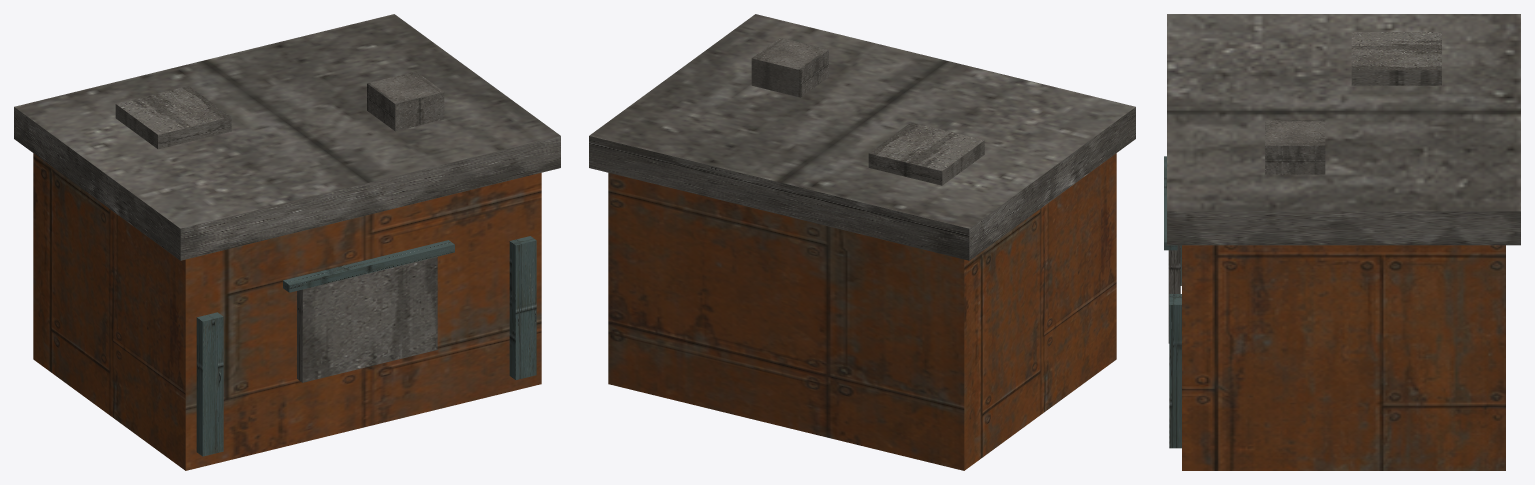
The model's file is district-building.gltf.
The picture shows the model from 3 angles, left to right: view 1: azimuth 30°, elevation 25°; view 2: azimuth 150°, elevation 25°; view 3: azimuth 270°, elevation 25°; orthographic projection. The views are drawn at different scales.
Visible parts, largest first — view 1: district-building; view 2: district-building; view 3: district-building.
Boxes of the visible parts, x1=… form: district-building: x1=14, y1=14, x2=560, y2=470; district-building: x1=589, y1=14, x2=1135, y2=470; district-building: x1=1164, y1=14, x2=1520, y2=470.
Bounding box in the file's own units: 6.2 × 4.32 × 4.74.
1 material, 1 textured.
